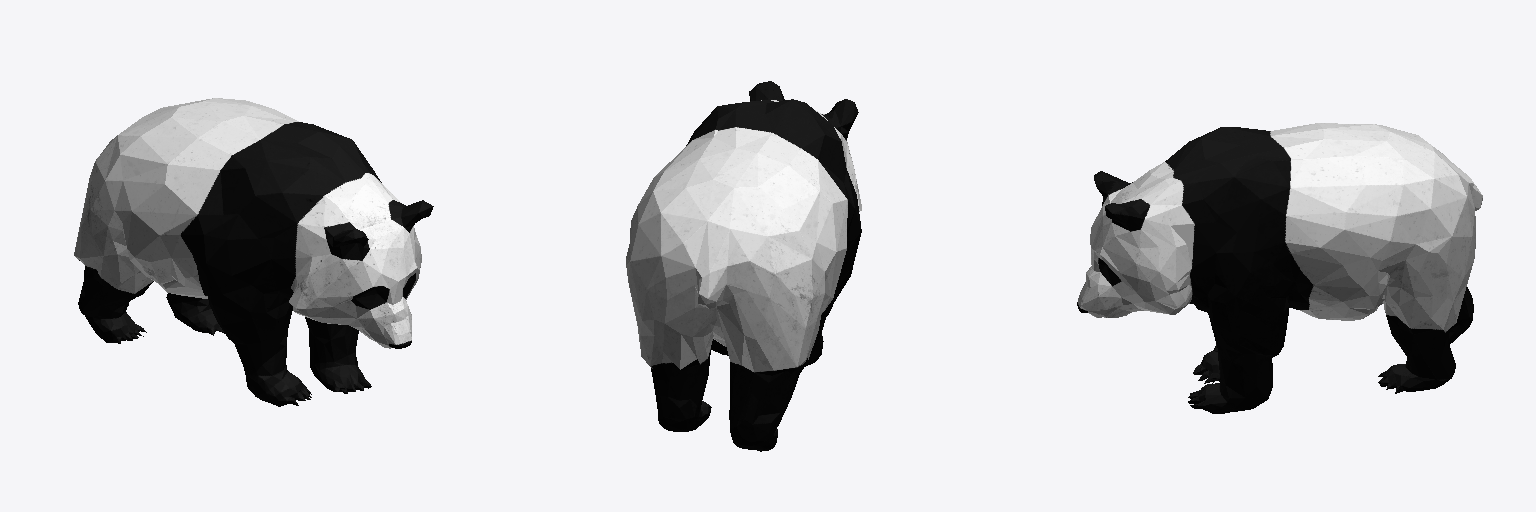
3 views of the same model, side by side, from view 1: azimuth 30°, elevation 25°; view 2: azimuth 150°, elevation 25°; view 3: azimuth 270°, elevation 25° (orthographic).
Parts seen in each view (by area): view 1: panda.1; view 2: panda.1; view 3: panda.1.
Boxes of the visible parts, x1,y1,x2,y2 form: panda.1: [74, 98, 433, 406]; panda.1: [626, 81, 861, 451]; panda.1: [1077, 123, 1482, 413].
Size of the model in its own units: 1.41 by 1.57 by 2.32.
1 materials, 1 textured.